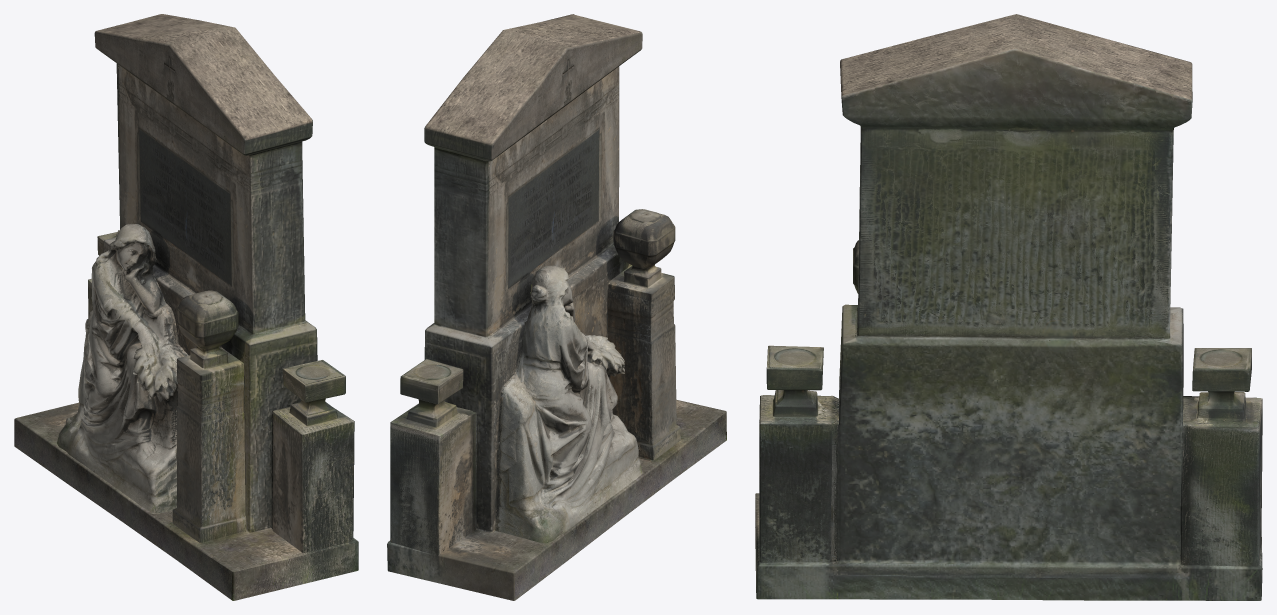
Rendered from sm_GraveSculpture_04_01.fbx.
The picture shows the model from 3 angles, left to right: view 1: azimuth 30°, elevation 25°; view 2: azimuth 150°, elevation 25°; view 3: azimuth 270°, elevation 25°; orthographic projection. The views are drawn at different scales.
Parts seen in each view (by area): view 1: sm_GraveSculpture_04_01_LOD0; view 2: sm_GraveSculpture_04_01_LOD0; view 3: sm_GraveSculpture_04_01_LOD0.
Boxes of the visible parts, bbox=[...] form: sm_GraveSculpture_04_01_LOD0: bbox=[14, 14, 358, 600]; sm_GraveSculpture_04_01_LOD0: bbox=[387, 14, 726, 600]; sm_GraveSculpture_04_01_LOD0: bbox=[755, 14, 1262, 600].
Size of the model in its own units: 91.84 by 266 by 316.
